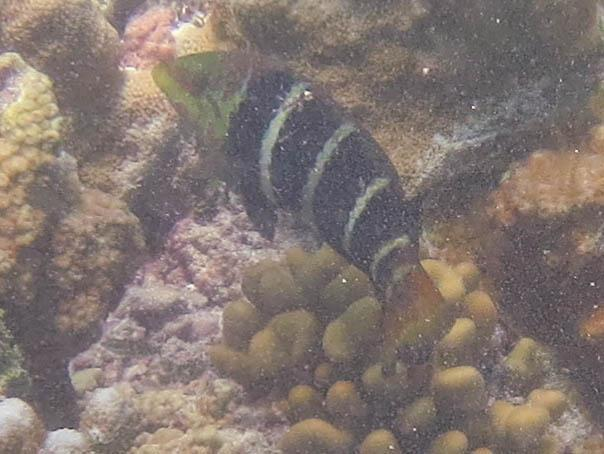Fish: (90, 28, 486, 341)
